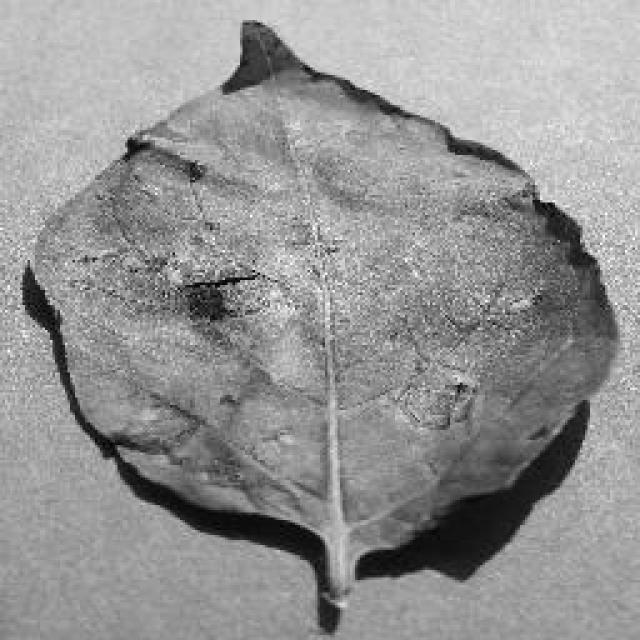Potato: (22, 18, 620, 618)
